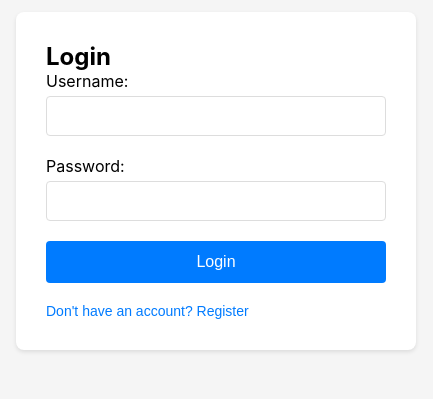
Scenario: LoginPage › handles failed registration
Click the button "Don't have an account? Register" at x=147, y=311, box left=46, top=303, right=249, bottom=319
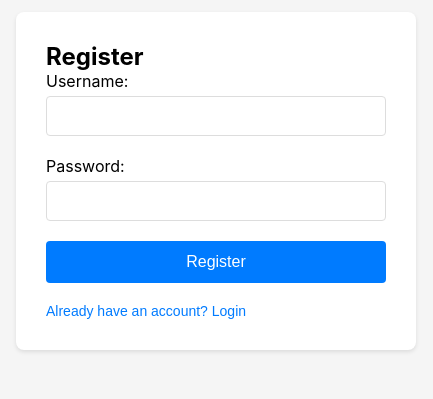
Type "existinguser" into the field labelled "Username:" at x=216, y=116, box left=46, top=96, right=386, bottom=136
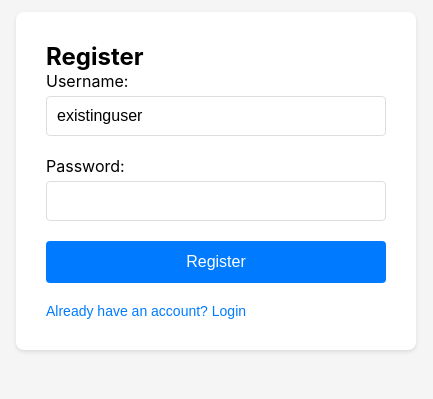
Type "password" into the password field labelled "Password:" at x=216, y=201, box left=46, top=181, right=386, bottom=221
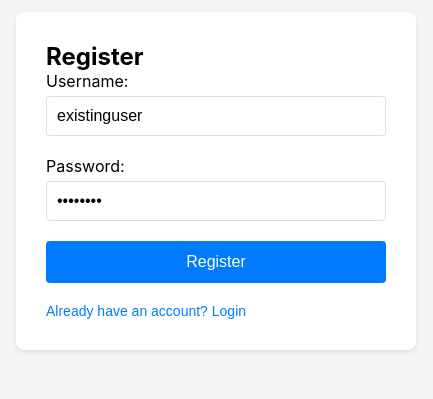
Click the button "Register" at x=216, y=262, box left=46, top=241, right=386, bottom=283
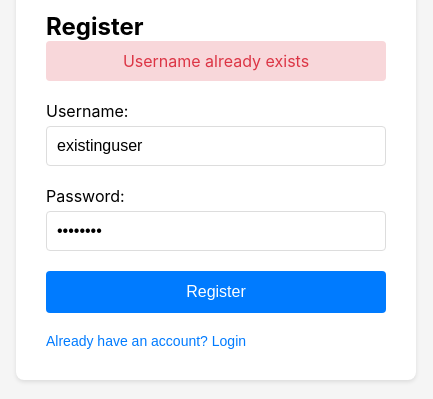
Now the text "Username already exists" is shown, box left=46, top=41, right=386, bottom=81
